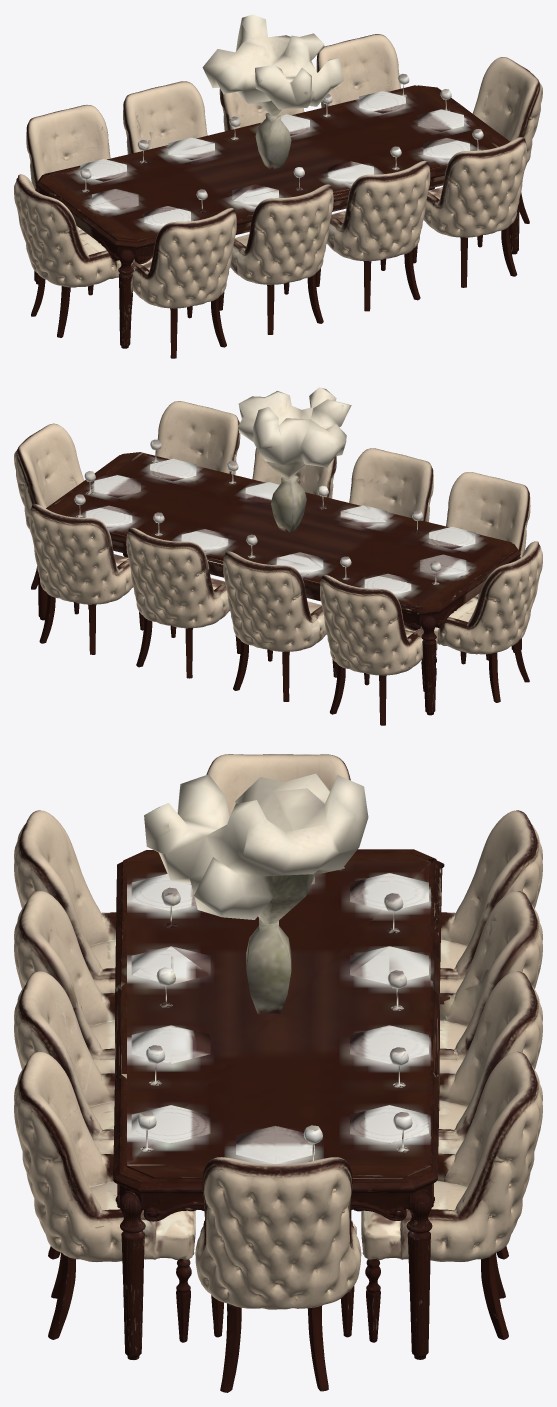
Rendered from fahrenheit-dining-table.glb.
3 renders of one model, top to bottom at view 1: azimuth 30°, elevation 25°; view 2: azimuth 150°, elevation 25°; view 3: azimuth 270°, elevation 25°, orthographic. The views are drawn at different scales.
Bounding box in the file's own units: 2 × 0.9192 × 1.06.
Materials: 1 (1 with a texture image).
